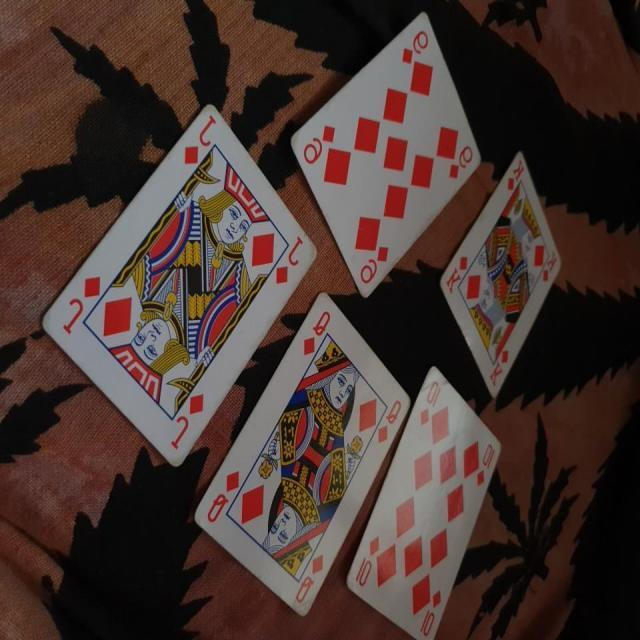10 of diamonds: (343, 361, 505, 640)
9 of diamonds: (289, 7, 482, 296)
jack of diamonds: (38, 100, 320, 467)
king of diamonds: (438, 150, 564, 402)
queen of diamonds: (192, 290, 414, 620)
